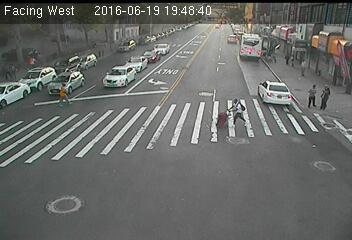neg: (270, 87, 292, 117), (254, 84, 273, 109), (114, 85, 132, 110), (213, 107, 231, 131), (173, 60, 191, 84), (92, 49, 106, 66), (249, 41, 262, 58), (259, 26, 271, 41)
pos: (222, 92, 248, 127), (49, 76, 74, 110), (315, 80, 338, 110), (303, 81, 325, 110), (293, 58, 312, 82)
